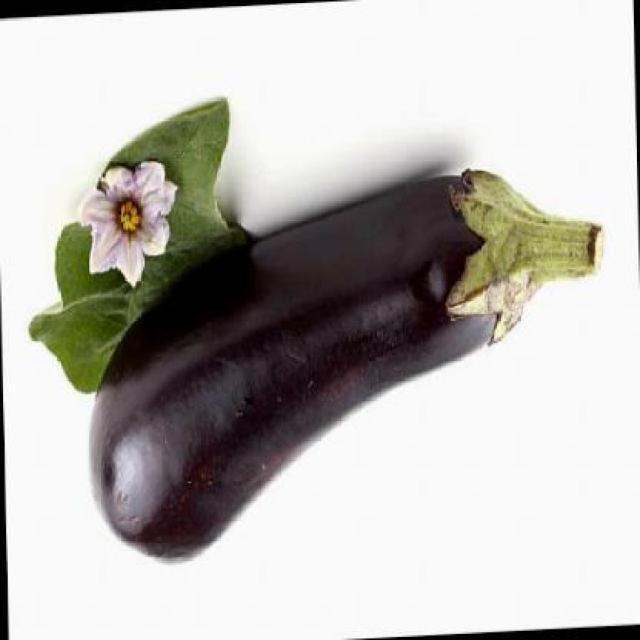eggplant: (80, 159, 612, 570)
